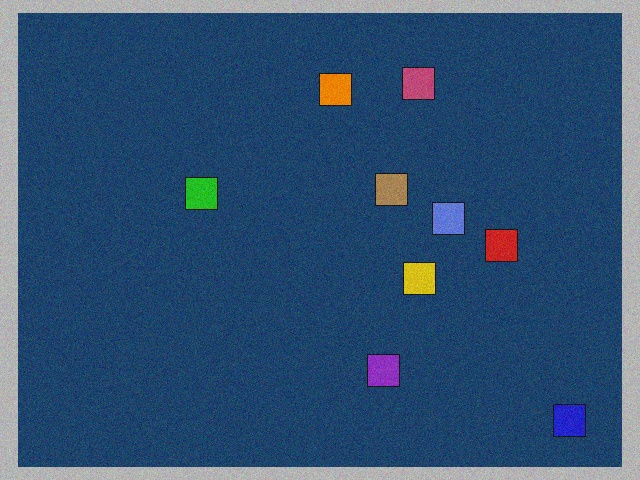block: (541, 396, 585, 436), (398, 68, 435, 107), (365, 349, 400, 387), (477, 230, 517, 262), (319, 74, 351, 113), (186, 178, 223, 211), (426, 203, 464, 235), (372, 174, 407, 208), (399, 261, 435, 294)
